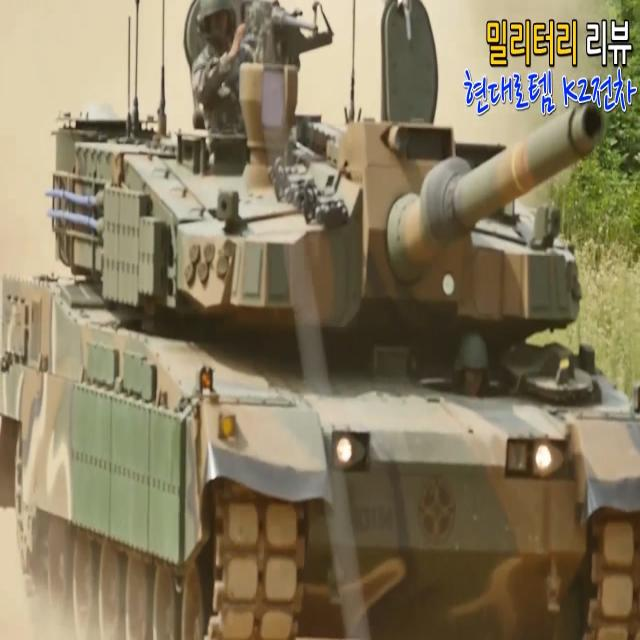korea tank: (0, 1, 640, 638)
